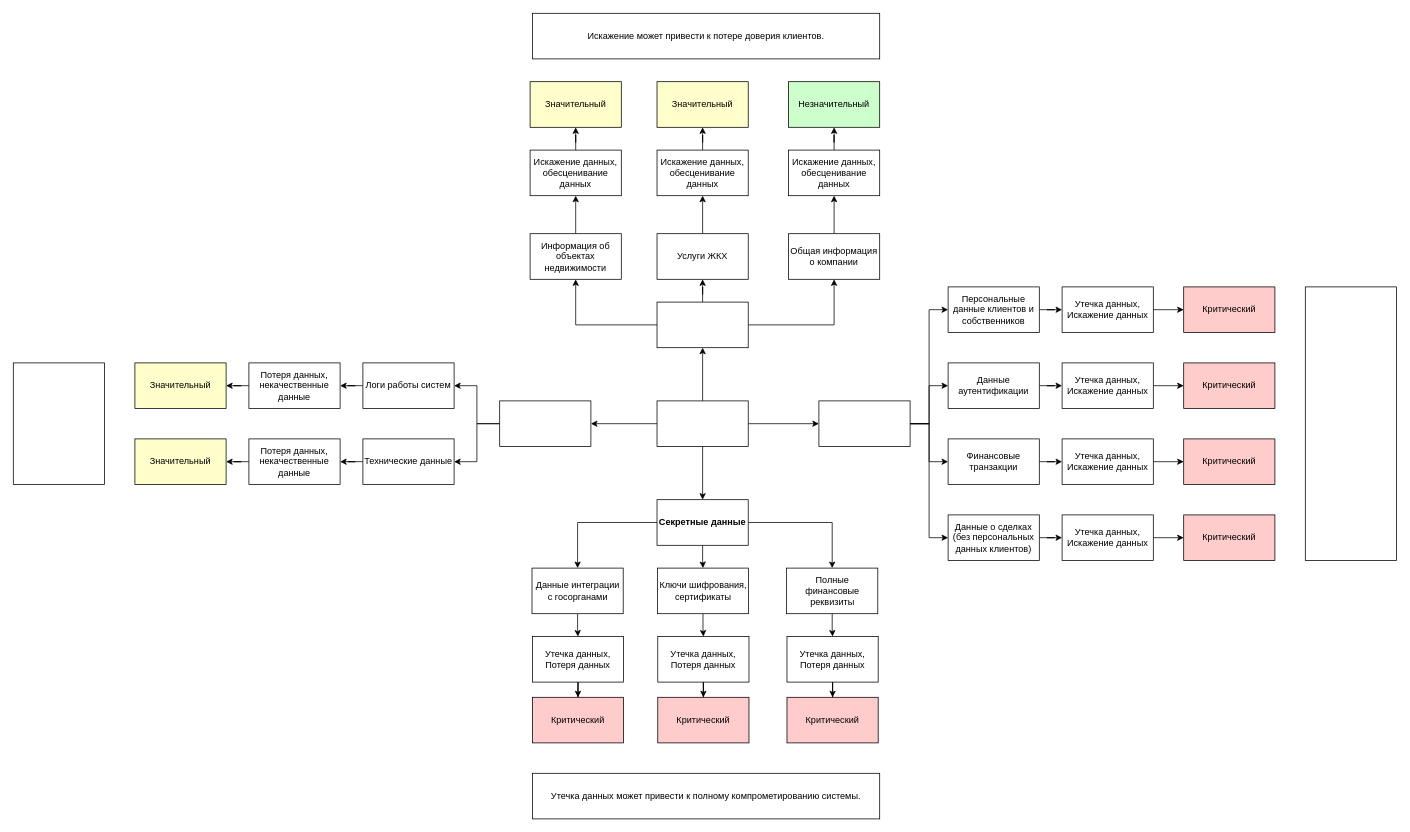
The diagram is 1410 pixels wide and 832 high, and some of its shapes have lost their labels. The shapes that lost their labels are listed below. From the top down, each one's centre as x and y in pixels, then its label:
At [702,324]: "Публичные данные".
At [58,423]: "Потеря данных нарушит отчётность и аналитику.".
At [545,423]: "Внутренние данные".
At [702,423]: "Безопасность данных".
At [864,423]: "Конфиденциальные данные".
At [1350,423]: "Утечка данных — нарушение законодательства и штрафы.".
